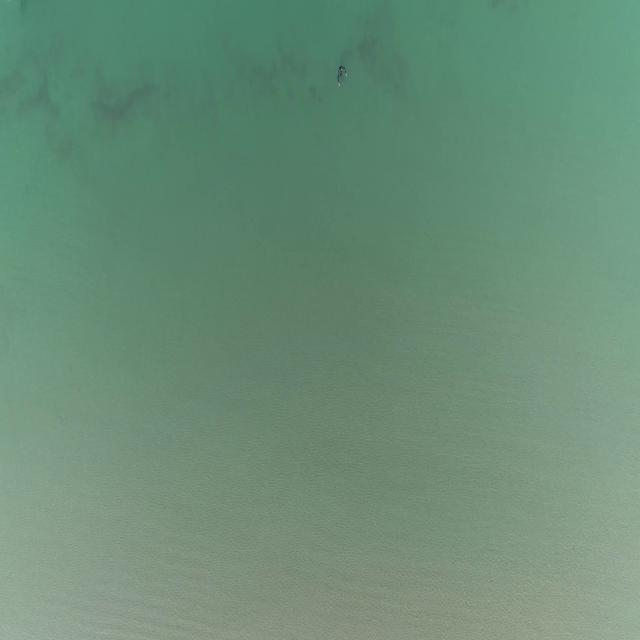person: (336, 65, 349, 85)
